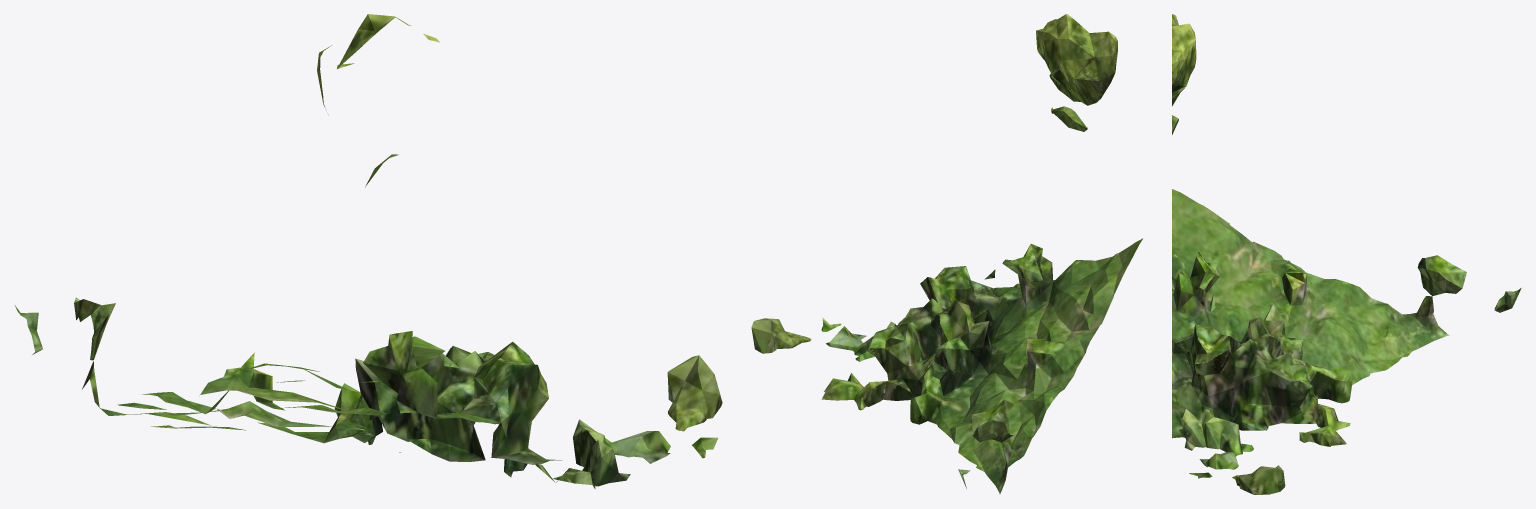
The picture shows the model from 3 angles, left to right: view 1: azimuth 30°, elevation 25°; view 2: azimuth 150°, elevation 25°; view 3: azimuth 270°, elevation 25°; orthographic projection. The views are drawn at different scales.
Bounding box in the file's own units: 23.21 × 23.36 × 21.45.
Materials: 2 (2 with a texture image).
